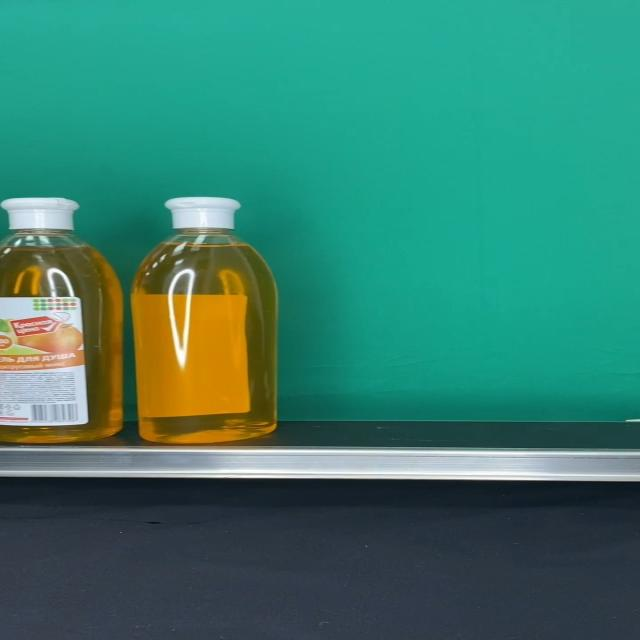Bottle: (131, 197, 279, 444), (0, 197, 123, 443)
Cap: (0, 198, 80, 230), (164, 197, 242, 229)
